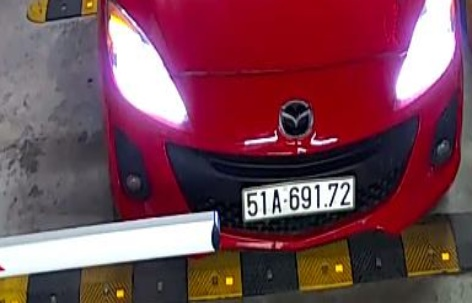plate: (237, 178, 358, 226)
